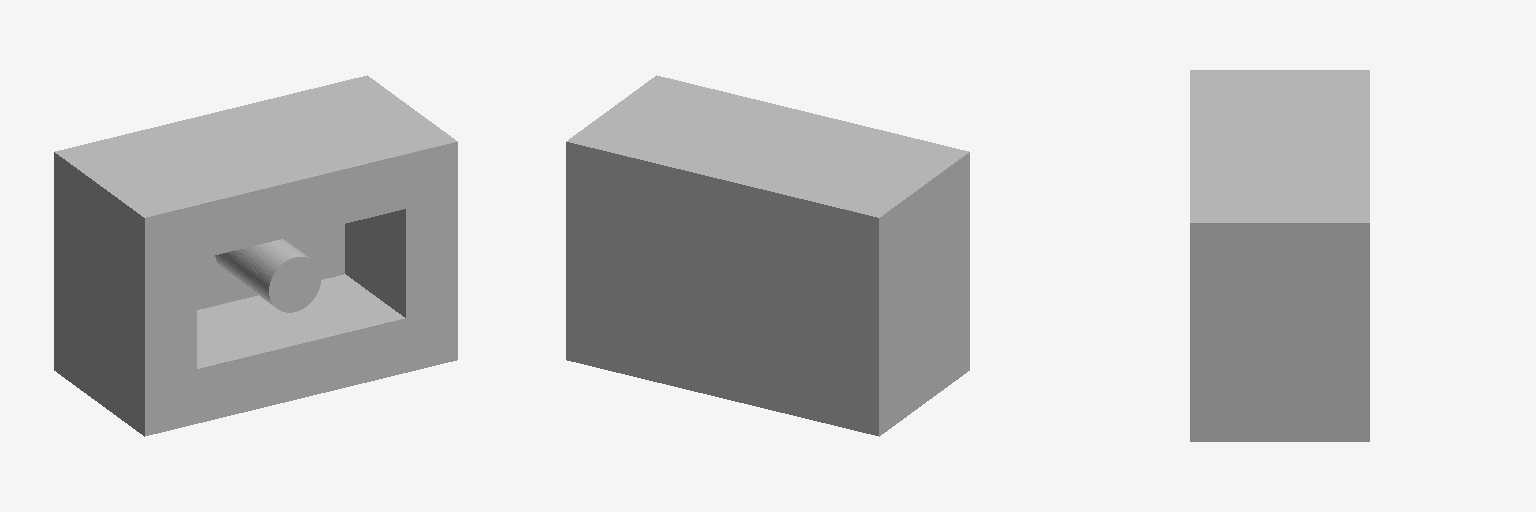
File: tank48.obj
3 renders of one model, left to right at view 1: azimuth 30°, elevation 25°; view 2: azimuth 150°, elevation 25°; view 3: azimuth 270°, elevation 25°, orthographic.
Bounding box in the file's own units: 3 × 2 × 1.5.